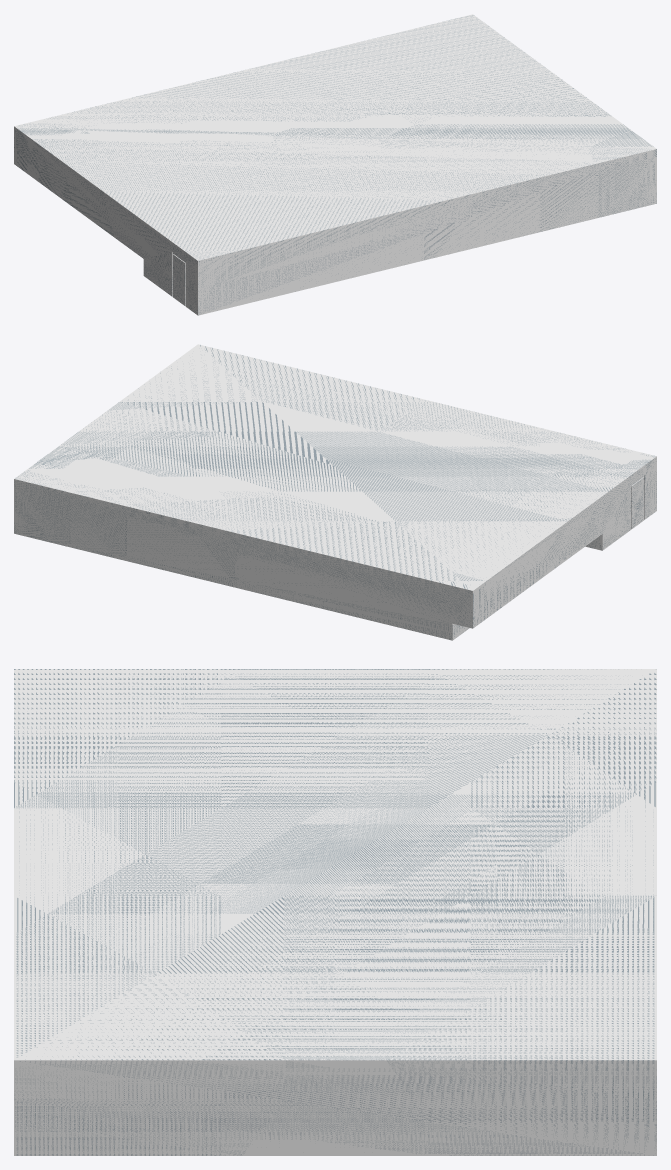
The model's file is TestRoom2.obj.
3 renders of one model, top to bottom at view 1: azimuth 30°, elevation 25°; view 2: azimuth 150°, elevation 25°; view 3: azimuth 270°, elevation 25°, orthographic. The views are drawn at different scales.
Visible parts, largest first — view 1: Mesh1 Model; view 2: Mesh1 Model; view 3: Mesh1 Model.
Boxes of the visible parts, x1,y1,x2,y2 form: Mesh1 Model: (14, 14, 656, 315); Mesh1 Model: (14, 344, 656, 640); Mesh1 Model: (14, 669, 656, 1155).
Bounding box in the file's own units: 27.22 × 3.1 × 18.9.
